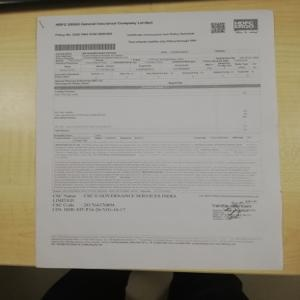image: (231, 16, 261, 33)
table: (53, 83, 260, 135)
text: (54, 140, 259, 193), (53, 18, 154, 28)
